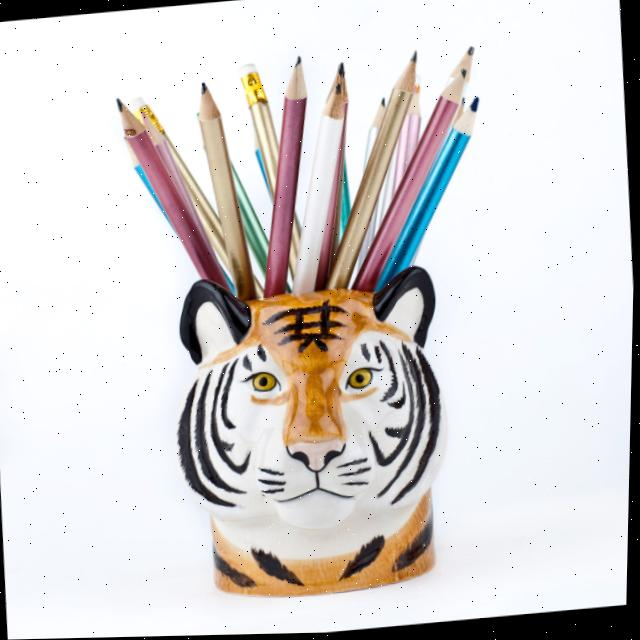pencil: (108, 90, 237, 309), (353, 64, 464, 294), (323, 43, 421, 292), (367, 92, 480, 303), (236, 55, 304, 287), (197, 74, 262, 308), (289, 76, 354, 299), (266, 49, 313, 298)
